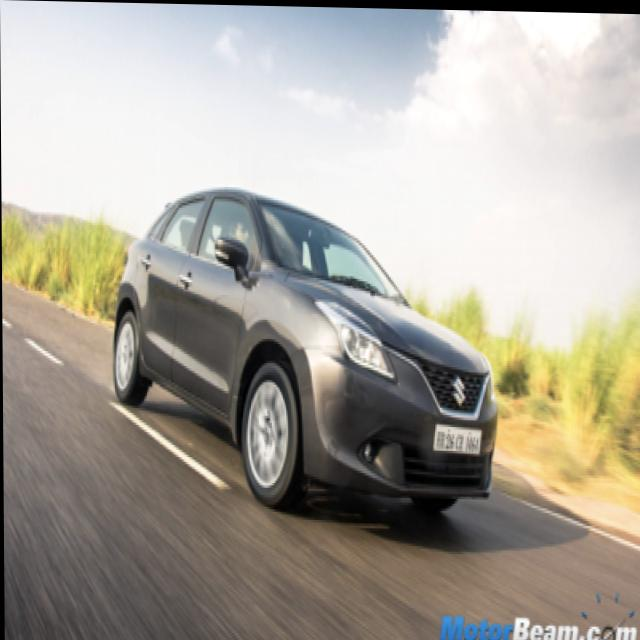licence: (427, 410, 492, 457)
